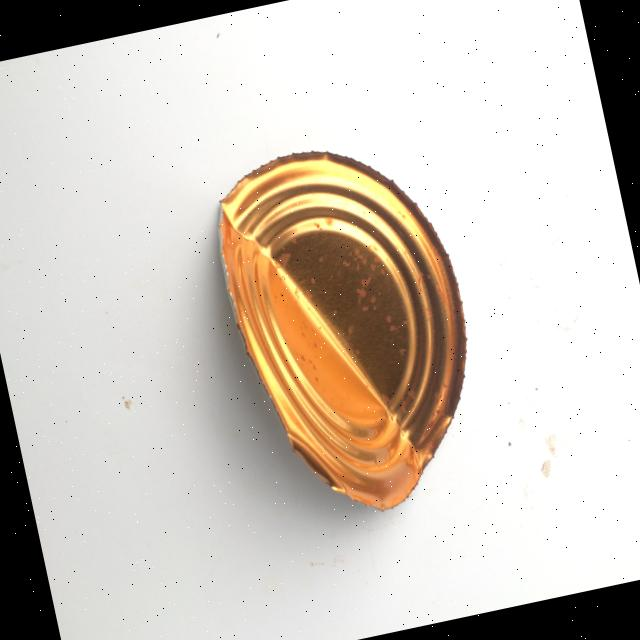metal: (200, 122, 502, 534)
